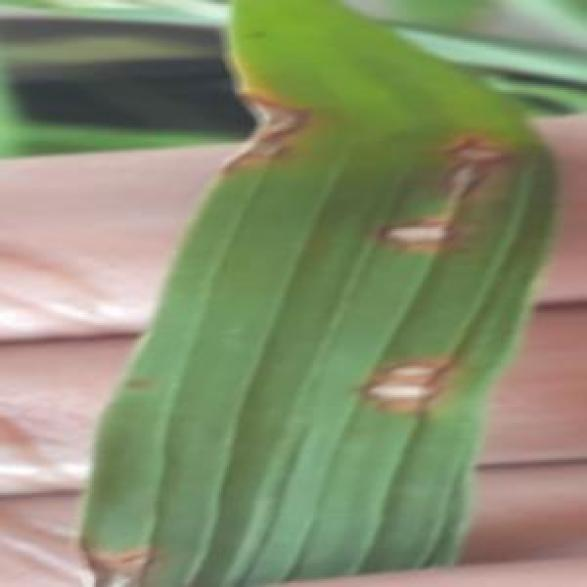Leaf_smut: (205, 66, 319, 186), (360, 192, 464, 276), (440, 120, 532, 172), (429, 161, 510, 219), (362, 374, 450, 416), (376, 339, 458, 382)
